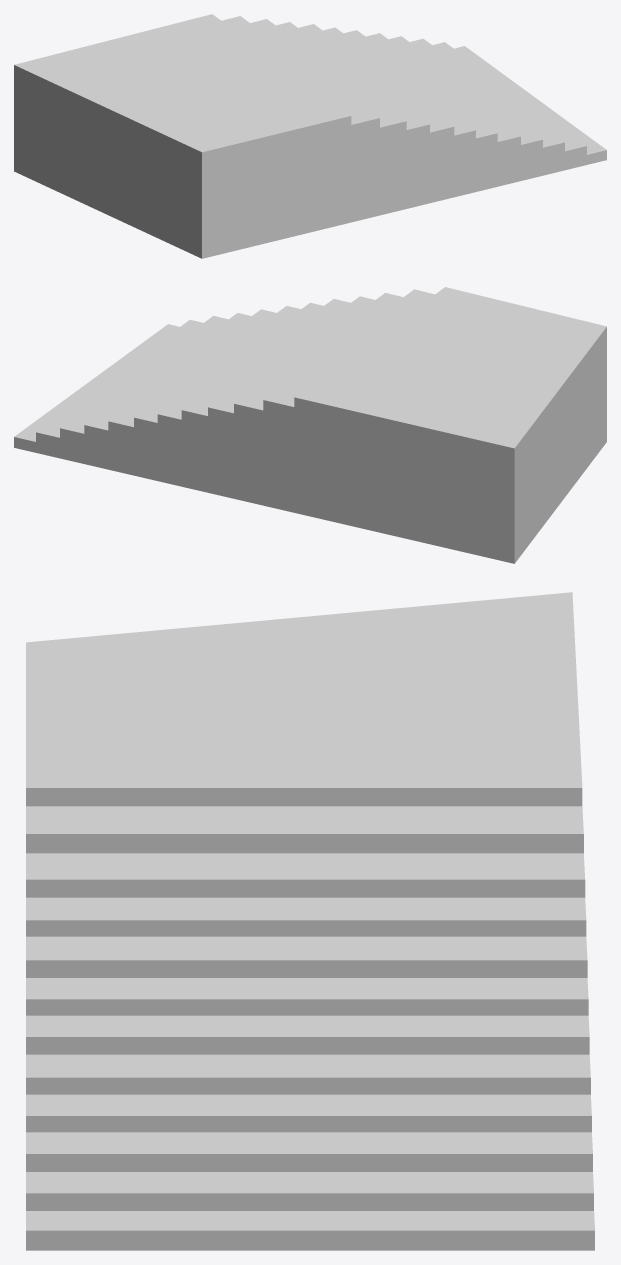
File: Dest_PoisonFactory_Stair.FBX
3 views of the same model, one above another, from view 1: azimuth 30°, elevation 25°; view 2: azimuth 150°, elevation 25°; view 3: azimuth 270°, elevation 25° (orthographic). The views are drawn at different scales.
Parts seen in each view (by area): view 1: Box006; view 2: Box006; view 3: Box006.
Boxes of the visible parts, <box> form: Box006: <box>14,14,606,258</box>; Box006: <box>14,287,606,563</box>; Box006: <box>26,592,594,1250</box>.
Size of the model in its own units: 25.8 by 5.76 by 13.93.
